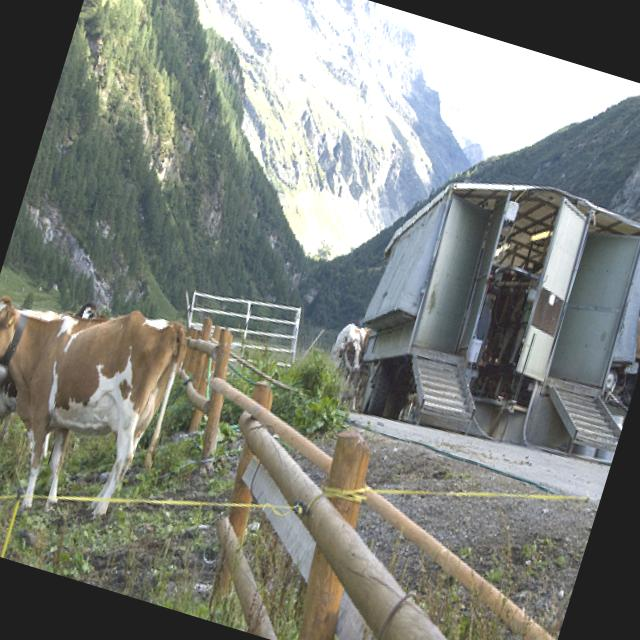Vehicle: (335, 146, 640, 483)
